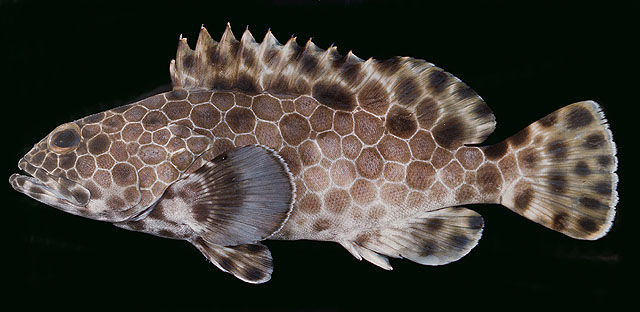fish: (9, 21, 618, 284)
